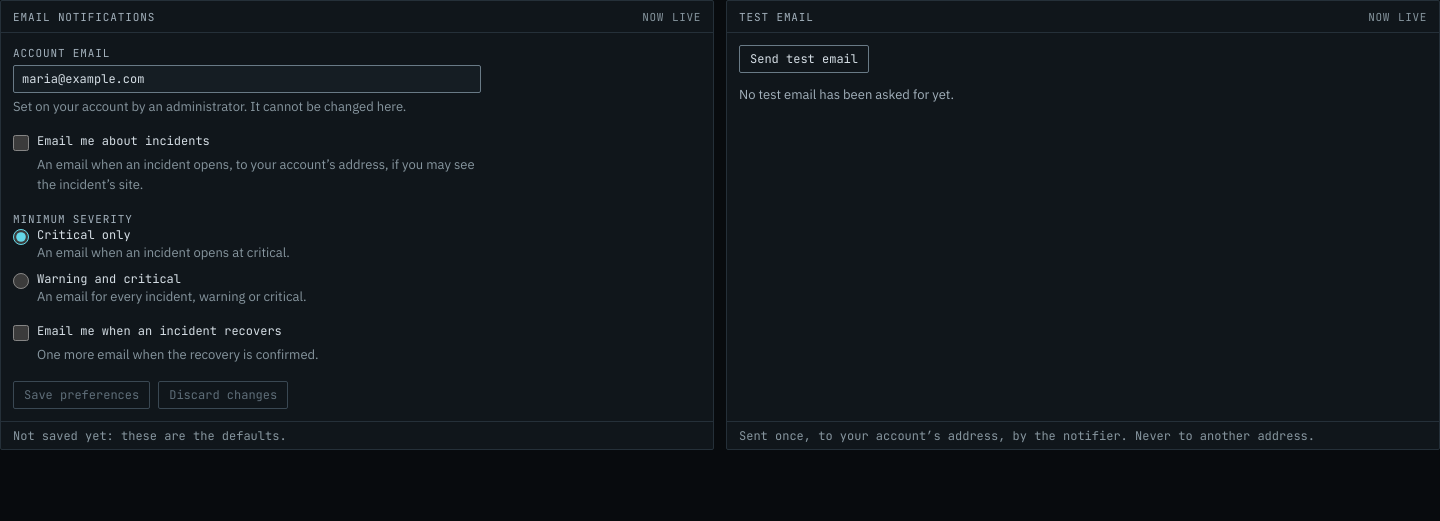
saving the preferences › sends exactly the three preferences, then shows what the server kept
Click the checkbox labelled "Email me about incidents".
click(21, 143)  # box [13, 135, 29, 151]
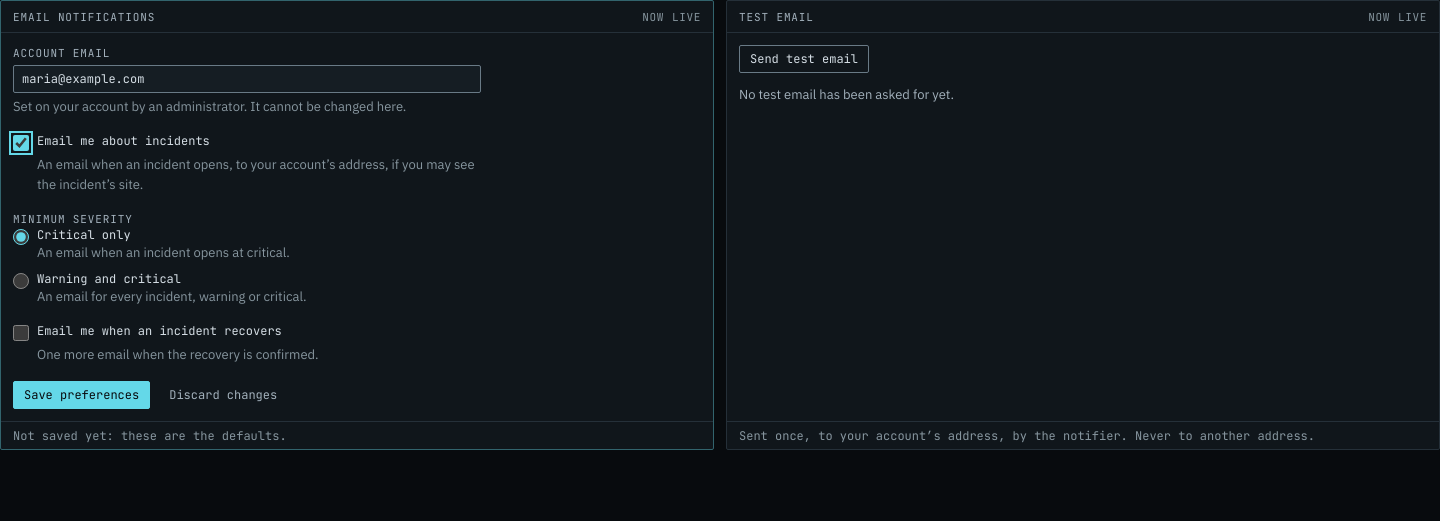
Click the radio button labelled "Warning and critical".
click(21, 281)  # box [13, 273, 29, 289]
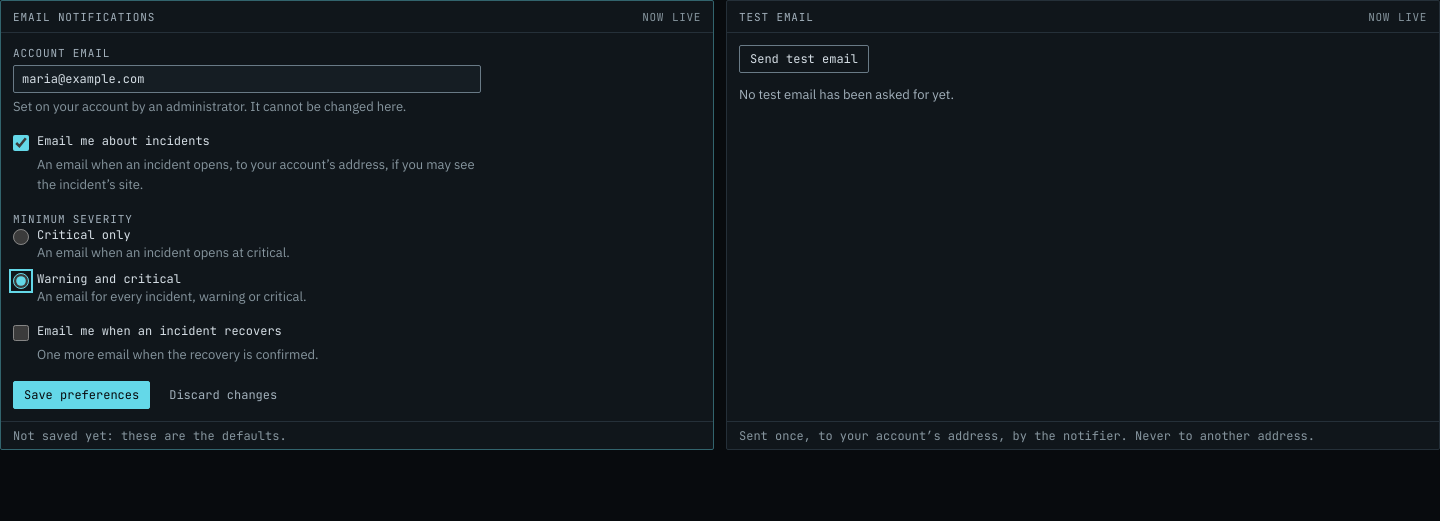
Click the checkbox labelled "Email me when an incident recovers".
click(21, 333)  # box [13, 325, 29, 341]
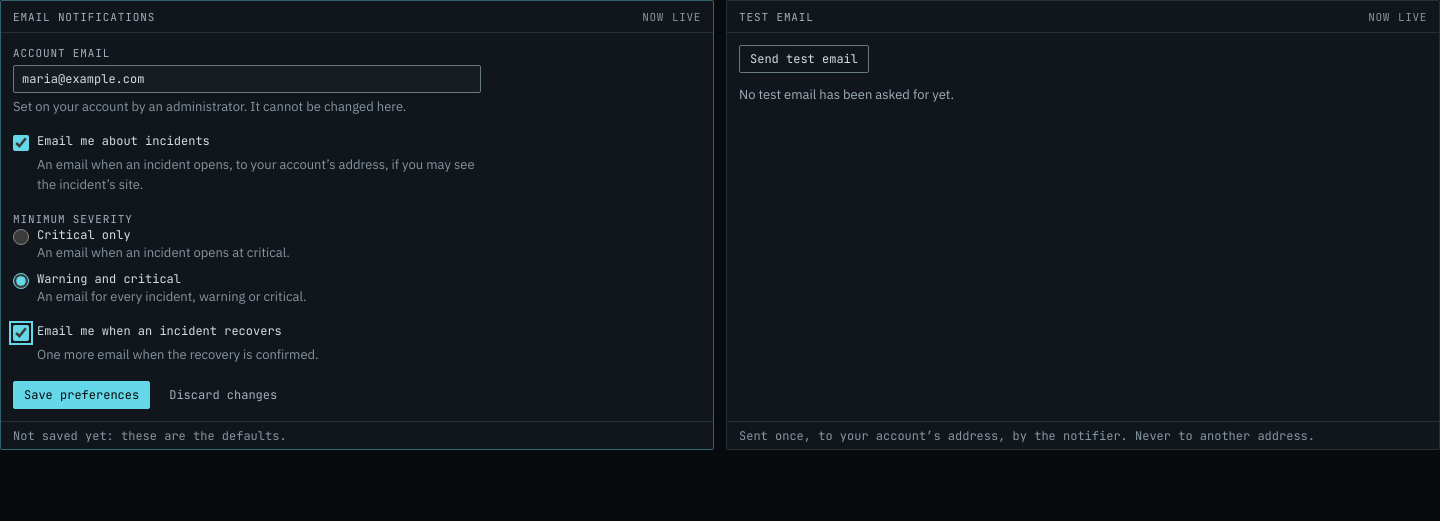
Click the button "Save preferences".
click(82, 395)  # box [13, 381, 150, 409]
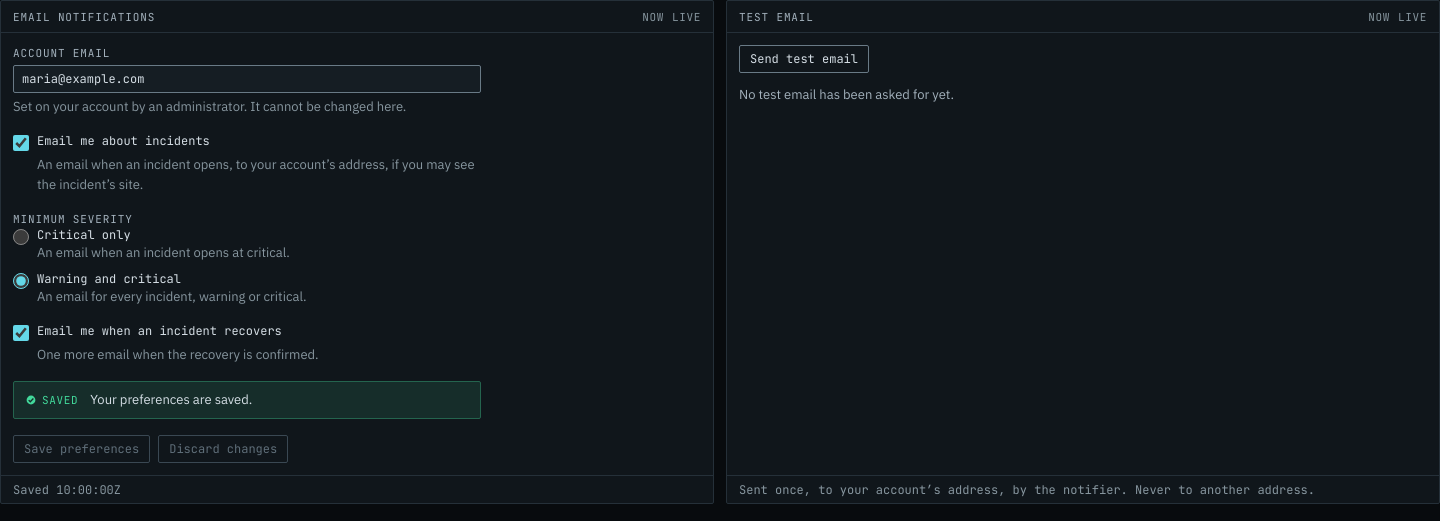
Now the text "Your preferences are saved." is shown, box [90, 391, 252, 408]
Now the text "SAVED" is shown, box [42, 394, 78, 406]
Now the text "Saved 10:00:00Z" is shown, box [13, 482, 121, 498]
